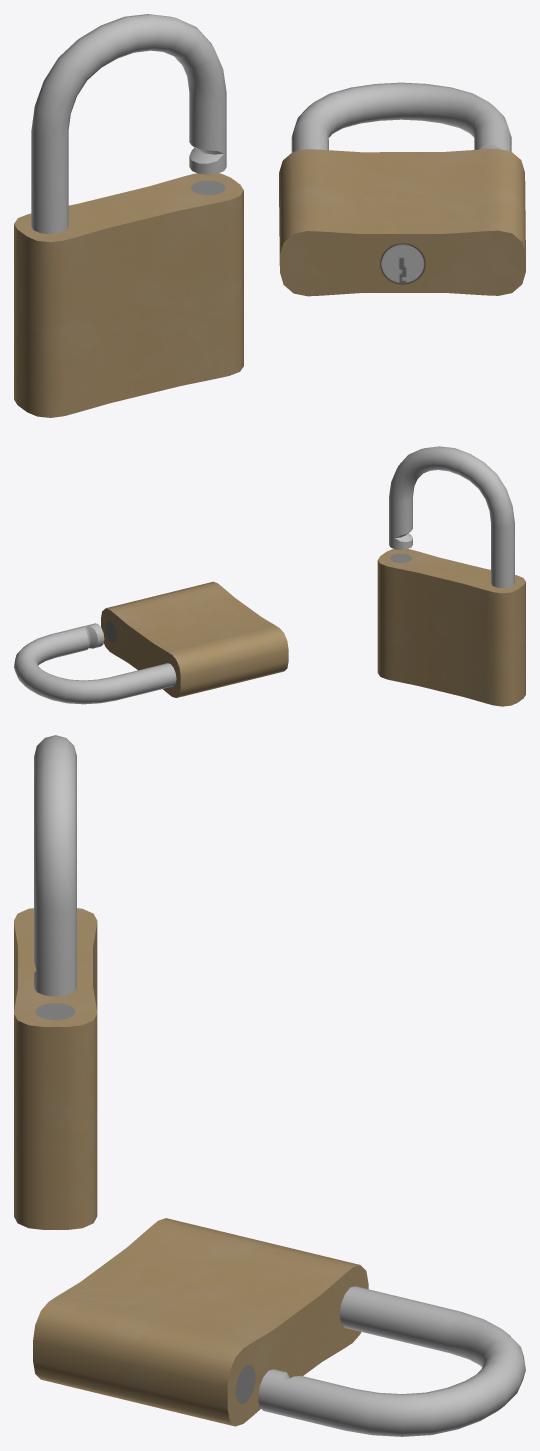
The model's file is game-ready_pbr_padlock.glb.
3 views of the same model, one above another, from view 1: azimuth 30°, elevation 25°; view 2: azimuth 150°, elevation 25°; view 3: azimuth 270°, elevation 25° (orthographic). The views are drawn at different scales.
Visible parts, largest first — view 1: Padlock_LOD0, Padlock_LOD0.001, Upper_part_LOD0, Upper_part_LOD0.001; view 2: Padlock_LOD0, Padlock_LOD0.001, Upper_part_LOD0, Upper_part_LOD0.001; view 3: Padlock_LOD0.001, Padlock_LOD0, Upper_part_LOD0.001, Upper_part_LOD0.
Part boxes in pixels (x1=…): Padlock_LOD0: x1=14, y1=173, x2=243, y2=417; Padlock_LOD0.001: x1=279, y1=148, x2=525, y2=296; Upper_part_LOD0: x1=31, y1=14, x2=226, y2=234; Upper_part_LOD0.001: x1=291, y1=82, x2=511, y2=152; Padlock_LOD0: x1=377, y1=549, x2=525, y2=706; Padlock_LOD0.001: x1=101, y1=581, x2=288, y2=697; Upper_part_LOD0: x1=389, y1=446, x2=514, y2=588; Upper_part_LOD0.001: x1=14, y1=623, x2=176, y2=704; Padlock_LOD0.001: x1=33, y1=1218, x2=368, y2=1426; Padlock_LOD0: x1=14, y1=908, x2=97, y2=1229; Upper_part_LOD0.001: x1=258, y1=1286, x2=525, y2=1436; Upper_part_LOD0: x1=34, y1=735, x2=76, y2=996.
Bounding box in the file's own units: 19.33 × 10.81 × 11.89.
1 material, 1 textured.
